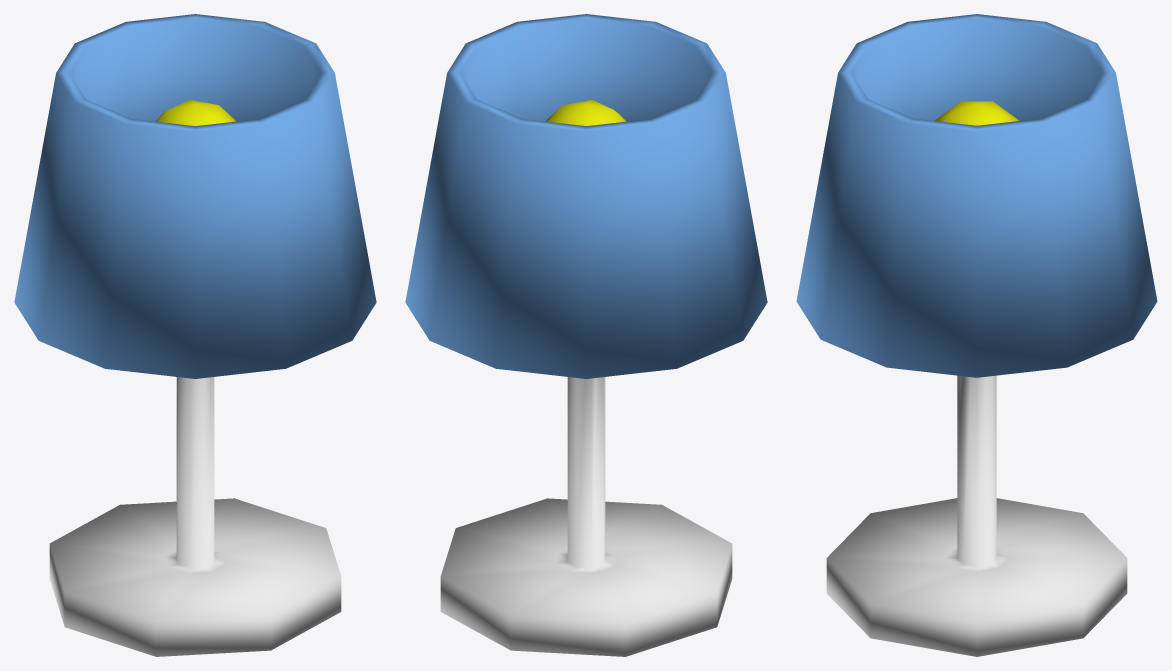
Rendered from Lamp.fbx.
The picture shows the model from 3 angles, left to right: view 1: azimuth 30°, elevation 25°; view 2: azimuth 150°, elevation 25°; view 3: azimuth 270°, elevation 25°; orthographic projection.
Parts seen in each view (by area): view 1: Lamp; view 2: Lamp; view 3: Lamp.
Part boxes in pixels (x1=…): Lamp: x1=14, y1=14, x2=376, y2=656; Lamp: x1=405, y1=14, x2=767, y2=656; Lamp: x1=796, y1=14, x2=1157, y2=656.
Bounding box in the file's own units: 37.57 × 59.78 × 37.57.
